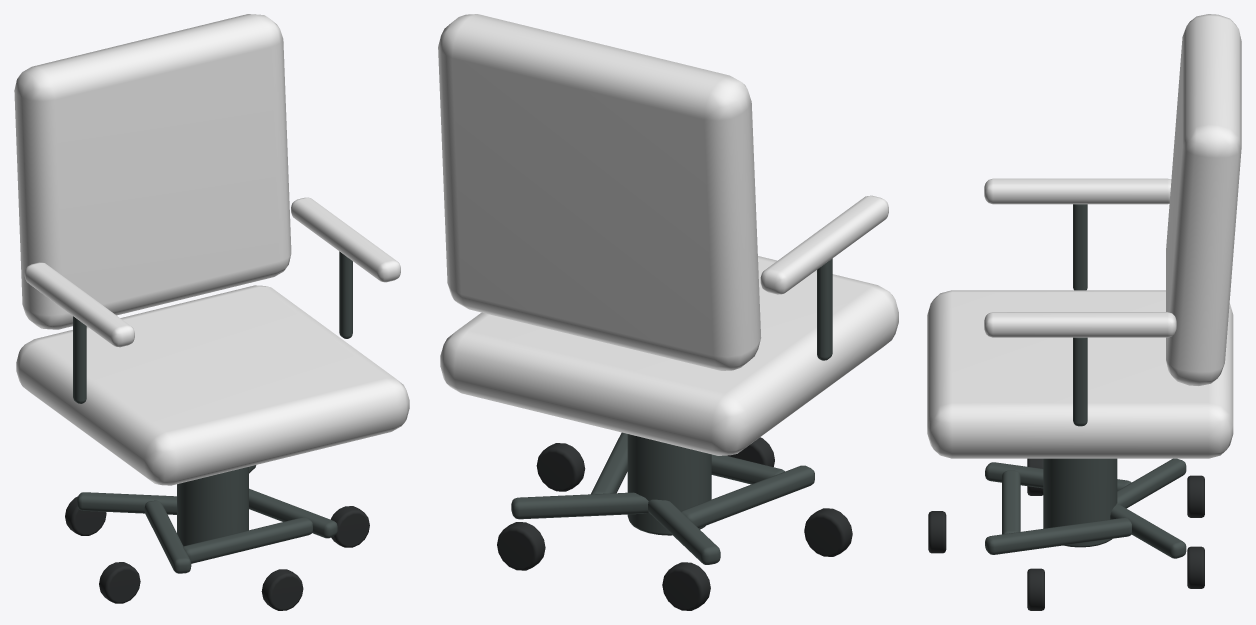
Rendered from office-chair-v1.glb.
3 renders of one model, left to right at view 1: azimuth 30°, elevation 25°; view 2: azimuth 150°, elevation 25°; view 3: azimuth 270°, elevation 25°, orthographic. The views are drawn at different scales.
Visible parts, largest first — view 1: Swivel hub; view 2: Swivel hub; view 3: Swivel hub.
Part boxes in pixels (<box>): Swivel hub: <box>14,14,409,610</box>; Swivel hub: <box>438,14,898,610</box>; Swivel hub: <box>927,14,1241,610</box>.
Bounding box in the file's own units: 0.695 × 1.08 × 0.6366.
Materials: 3 (1 with a texture image).
